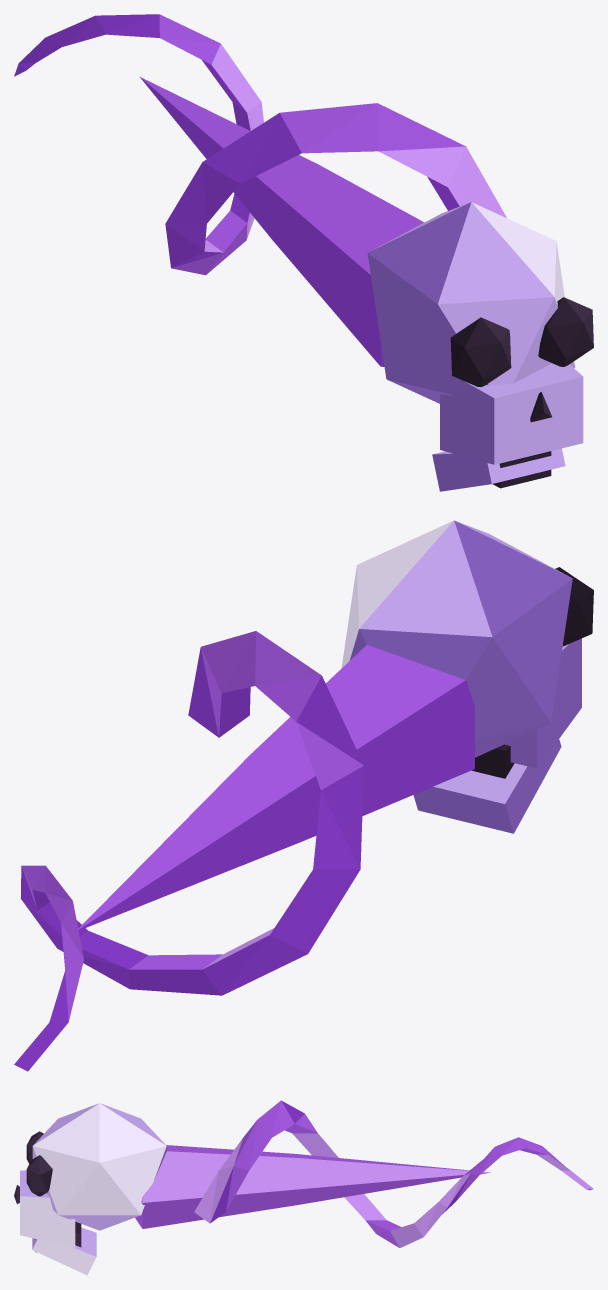
The model's file is proj_skullbolt.glb.
3 renders of one model, top to bottom at view 1: azimuth 30°, elevation 25°; view 2: azimuth 150°, elevation 25°; view 3: azimuth 270°, elevation 25°, orthographic. The views are drawn at different scales.
Parts seen in each view (by area): view 1: Proj_coil, Proj_cranium, Proj_core, Proj_face, Proj_socket_R, Proj_jaw, Proj_socket_L, Proj_mouth; view 2: Proj_coil, Proj_core, Proj_cranium, Proj_jaw, Proj_face, Proj_socket_R, Proj_mouth; view 3: Proj_core, Proj_cranium, Proj_coil, Proj_face, Proj_jaw, Proj_socket_L.
Boxes of the visible parts, bbox=[...] form: Proj_coil: bbox=[14, 14, 506, 275]; Proj_cranium: bbox=[367, 202, 575, 403]; Proj_core: bbox=[140, 77, 424, 366]; Proj_face: bbox=[440, 363, 583, 464]; Proj_socket_R: bbox=[450, 317, 511, 386]; Proj_jaw: bbox=[432, 448, 565, 491]; Proj_socket_L: bbox=[538, 297, 593, 366]; Proj_mouth: bbox=[492, 451, 551, 488]; Proj_coil: bbox=[14, 631, 363, 1071]; Proj_core: bbox=[78, 645, 474, 930]; Proj_cranium: bbox=[341, 520, 572, 757]; Proj_jaw: bbox=[413, 739, 561, 833]; Proj_face: bbox=[504, 638, 581, 768]; Proj_socket_R: bbox=[555, 567, 593, 646]; Proj_mouth: bbox=[472, 744, 514, 778]; Proj_core: bbox=[135, 1145, 491, 1228]; Proj_cranium: bbox=[32, 1103, 166, 1230]; Proj_coil: bbox=[194, 1100, 593, 1247]; Proj_face: bbox=[20, 1170, 75, 1247]; Proj_jaw: bbox=[32, 1227, 96, 1275]; Proj_socket_L: bbox=[26, 1155, 52, 1196].
Size of the model in its own units: 0.2797 by 0.289 by 0.9469.
